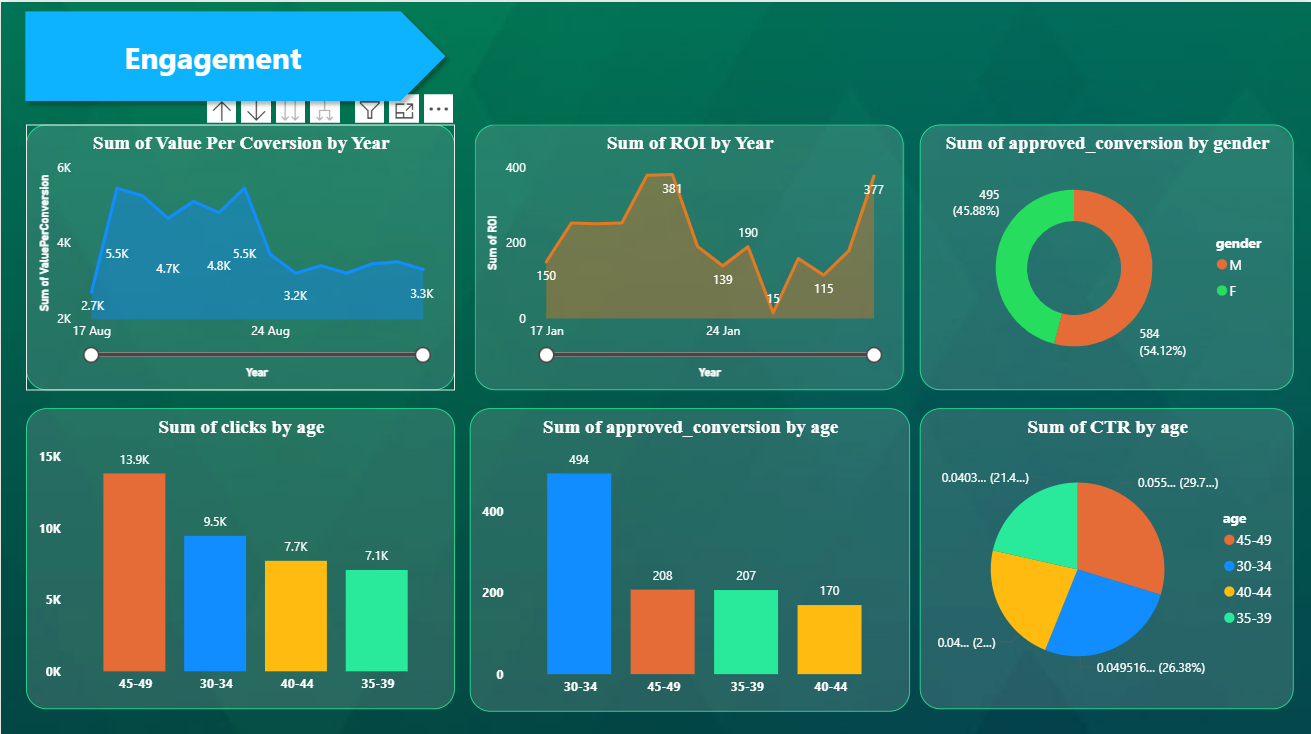

What the dashboard file says about the page in this screenshot:
{"tool":"powerbi","page":{"name":"Page 2","canvas":[1280,720],"ordinal":1},"visuals":[{"type":"clusteredColumnChart","fields":{"Category":["Facebook_analysis.age"],"Y":["Sum(Facebook_analysis.clicks)"]},"box":[24.7,396.6,418.5,293.7],"z":0},{"type":"clusteredColumnChart","fields":{"Category":["Facebook_analysis.age"],"Y":["Sum(Facebook_analysis.approved_conversion)"]},"box":[456.9,396.6,429.5,296.4],"z":1000},{"type":"pieChart","fields":{"Y":["Sum(Facebook_analysis.CTR)"],"Category":["Facebook_analysis.age"]},"box":[896.1,396.6,365,293.7],"z":2000},{"type":"donutChart","fields":{"Category":["Facebook_analysis.gender"],"Y":["Sum(Facebook_analysis.approved_conversion)"]},"box":[896.1,119.4,365,259.3],"z":3000},{"type":"stackedAreaChart","title":"Sum of Value Per Coversion by Year ","fields":{"Y":["Sum(Facebook_analysis.ValuePerConversion)"],"Category":["Facebook_analysis.reporting_end.Variation.Date Hierarchy.Year","Facebook_analysis.reporting_end.Variation.Date Hierarchy.Quarter","Facebook_analysis.reporting_end.Variation.Date Hierarchy.Month","Facebook_analysis.reporting_end.Variation.Date Hierarchy.Day"]},"box":[24.7,119.4,418.5,259.3],"z":4000},{"type":"areaChart","title":"Sum of ROI by Year ","fields":{"Y":["Sum(Facebook_analysis.ROI)"],"Category":["Facebook_analysis.reporting_end.Variation.Date Hierarchy.Year","Facebook_analysis.reporting_end.Variation.Date Hierarchy.Day"]},"box":[462.4,119.4,418.5,259.3],"z":5000},{"type":"shape","box":[15.1,0,428.1,105.7],"z":6000}]}

Visuals, with their boxes on the page's 1280x720 design canvas (x1, y1, x2, y2). These are canvas units, not pixel positions in the 1311x734 screenshot, which may show the page scaled, cropped or inside an application window:
clusteredColumnChart - Facebook_analysis.age x Sum(Facebook_analysis.clicks): (left=25, top=397, right=443, bottom=690)
clusteredColumnChart - Facebook_analysis.age x Sum(Facebook_analysis.approved_conversion): (left=457, top=397, right=886, bottom=693)
pieChart - Sum(Facebook_analysis.CTR) x Facebook_analysis.age: (left=896, top=397, right=1261, bottom=690)
donutChart - Facebook_analysis.gender x Sum(Facebook_analysis.approved_conversion): (left=896, top=119, right=1261, bottom=379)
"Sum of Value Per Coversion by Year " stackedAreaChart: (left=25, top=119, right=443, bottom=379)
"Sum of ROI by Year " areaChart: (left=462, top=119, right=881, bottom=379)
shape: (left=15, top=0, right=443, bottom=106)
